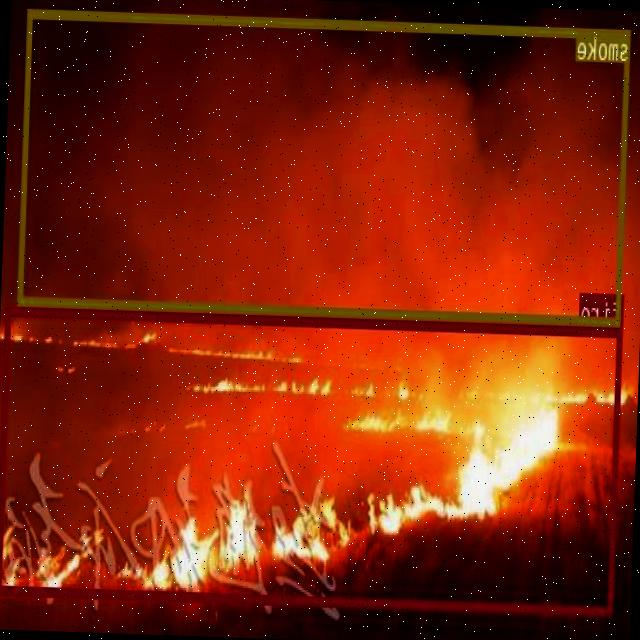fire: (0, 305, 623, 613)
smoke: (19, 8, 630, 324)
